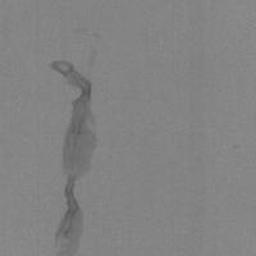Water spot: (49, 26, 102, 256)
